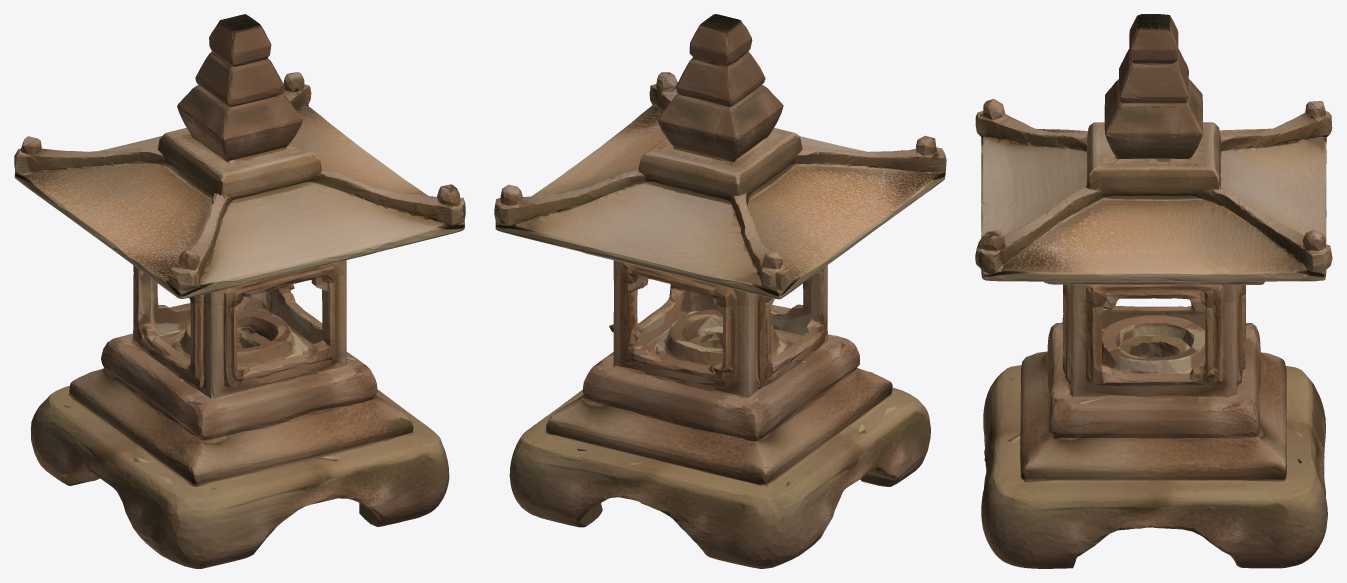
Rendered from triposg_conservative.glb.
The picture shows the model from 3 angles, left to right: view 1: azimuth 30°, elevation 25°; view 2: azimuth 150°, elevation 25°; view 3: azimuth 270°, elevation 25°; orthographic projection. The views are drawn at different scales.
Visible parts, largest first — view 1: Lantern_Conservative; view 2: Lantern_Conservative; view 3: Lantern_Conservative.
Part boxes in pixels (box(x1,y1,x2,y2)): Lantern_Conservative: box(14, 14, 465, 568); Lantern_Conservative: box(494, 14, 946, 568); Lantern_Conservative: box(975, 14, 1332, 568).
Bounding box in the file's own units: 1.24 × 1.87 × 1.25.
Materials: 1 (1 with a texture image).
